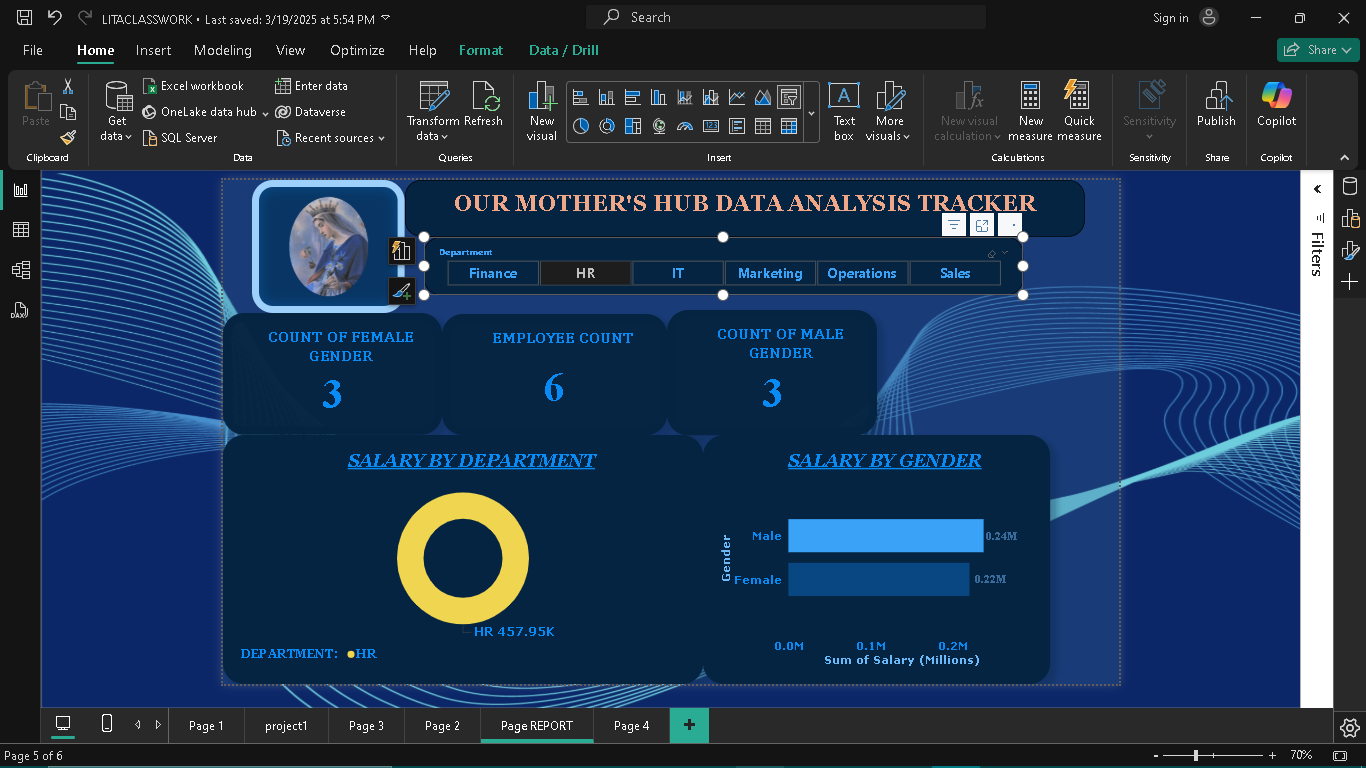

What the dashboard file says about the page in this screenshot:
{"tool":"powerbi","page":{"name":"Page REPORT","canvas":[1280,720],"ordinal":0},"visuals":[{"type":"card","title":"EMPLOYEE COUNT","fields":{"Values":["HR_Employee_Data.Measure 2"]},"box":[312.9,190,321.4,174.3],"z":0},{"type":"card","title":" COUNT OF MALE GENDER","fields":{"Values":["Count(HR_Employee_Data)"]},"box":[634.3,185.7,300,178.6],"z":1000},{"type":"card","title":" COUNT OF FEMALE GENDER","fields":{"Values":["Count(HR_Employee_Data)"]},"box":[0,190,312.9,174.3],"z":2000},{"type":"textbox","box":[260,0,971.4,81.4],"z":3000},{"type":"image","box":[41.7,0,218.3,190],"z":4000},{"type":"donutChart","title":"SALARY BY DEPARTMENT","fields":{"Y":["Sum(HR_Employee_Data.Salary)"],"Category":["HR_Employee_Data.Department"]},"box":[0,364.3,685.7,355.7],"z":5000},{"type":"clusteredBarChart","title":"SALARY BY GENDER","fields":{"Y":["Sum(HR_Employee_Data.Salary)"],"Category":["HR_Employee_Data.Gender"]},"box":[685.7,364.3,495.7,355.7],"z":6000},{"type":"slicer","fields":{"Values":["HR_Employee_Data.Department"]},"box":[287.1,81.4,855.7,82.9],"z":7000}]}

Visuals, with their boxes on the page's 1280x720 design canvas (x1, y1, x2, y2). These are canvas units, not pixel positions in the 1366x768 screenshot, which may show the page scaled, cropped or inside an application window:
"EMPLOYEE COUNT" card: x1=313, y1=190, x2=634, y2=364
" COUNT OF MALE GENDER" card: x1=634, y1=186, x2=934, y2=364
" COUNT OF FEMALE GENDER" card: x1=0, y1=190, x2=313, y2=364
textbox: x1=260, y1=0, x2=1231, y2=81
image: x1=42, y1=0, x2=260, y2=190
"SALARY BY DEPARTMENT" donutChart: x1=0, y1=364, x2=686, y2=720
"SALARY BY GENDER" clusteredBarChart: x1=686, y1=364, x2=1181, y2=720
slicer - HR_Employee_Data.Department: x1=287, y1=81, x2=1143, y2=164
